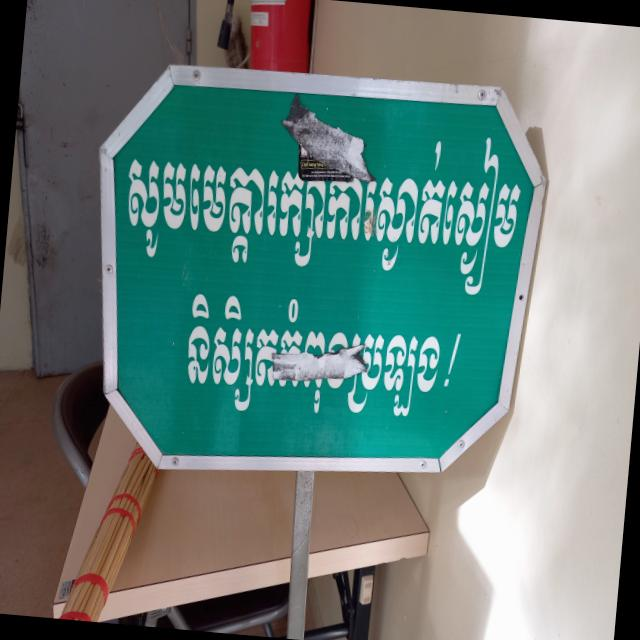Yolov11kh: (122, 125, 524, 299), (180, 289, 451, 422)
